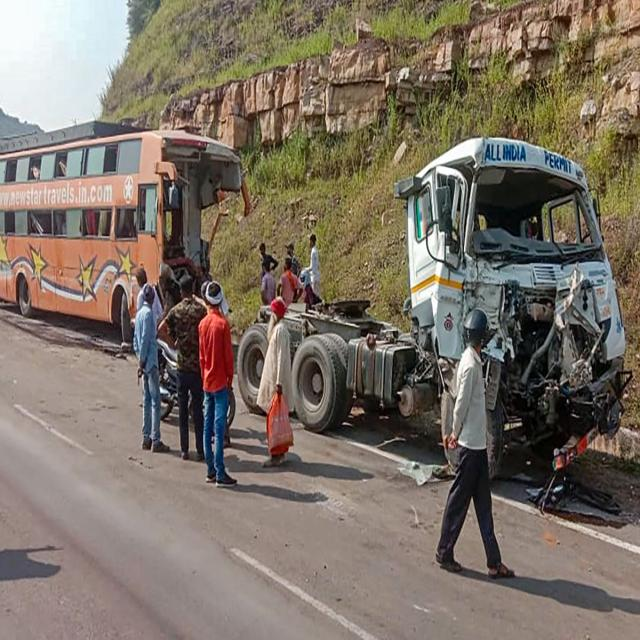accident: (285, 138, 630, 508), (0, 122, 250, 342)
